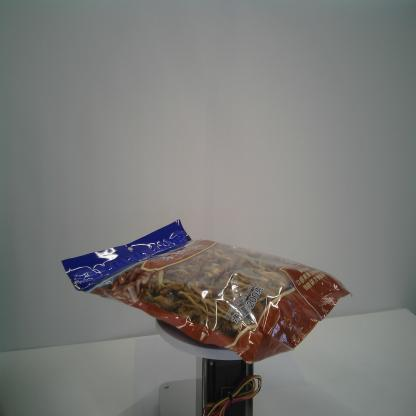Dried Food: (60, 218, 354, 366)
